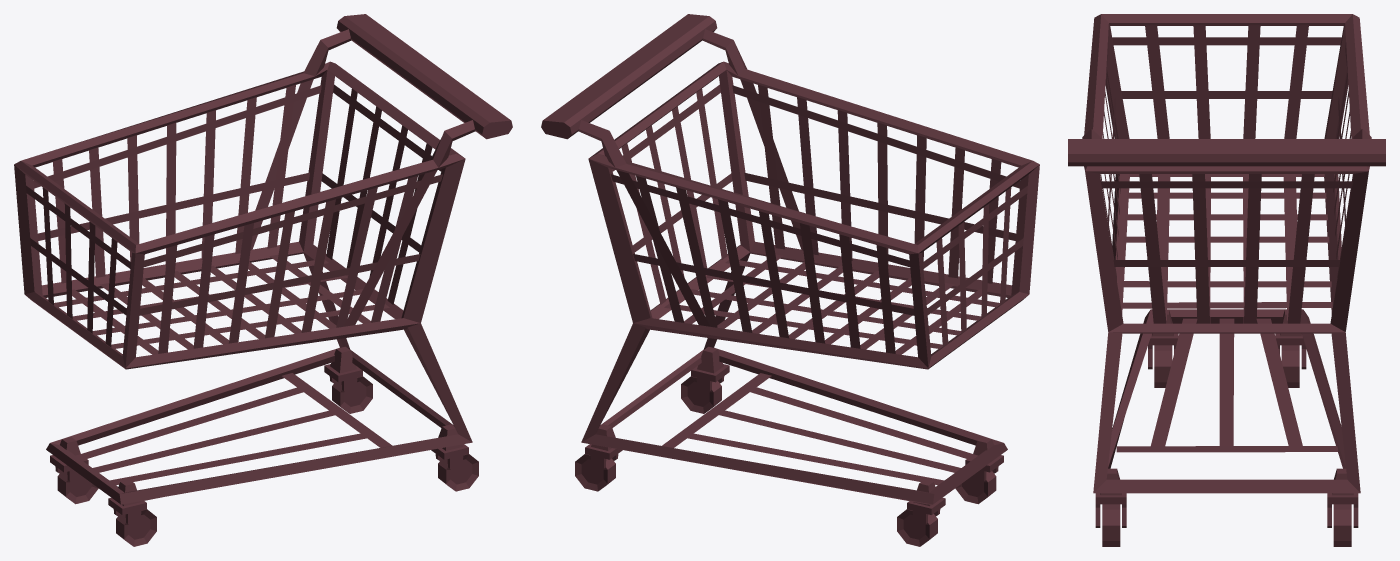
The model's file is shopping-trolley.fbx.
3 renders of one model, left to right at view 1: azimuth 30°, elevation 25°; view 2: azimuth 150°, elevation 25°; view 3: azimuth 270°, elevation 25°, orthographic. The views are drawn at different scales.
Parts seen in each view (by area): view 1: shopping-trolley; view 2: shopping-trolley; view 3: shopping-trolley.
Part boxes in pixels (x1,y1,x2,y2): shopping-trolley: (14,14,512,546); shopping-trolley: (541,14,1039,546); shopping-trolley: (1068,14,1385,546).
Bounding box in the file's own units: 1.12 × 1.1 × 0.7741.
